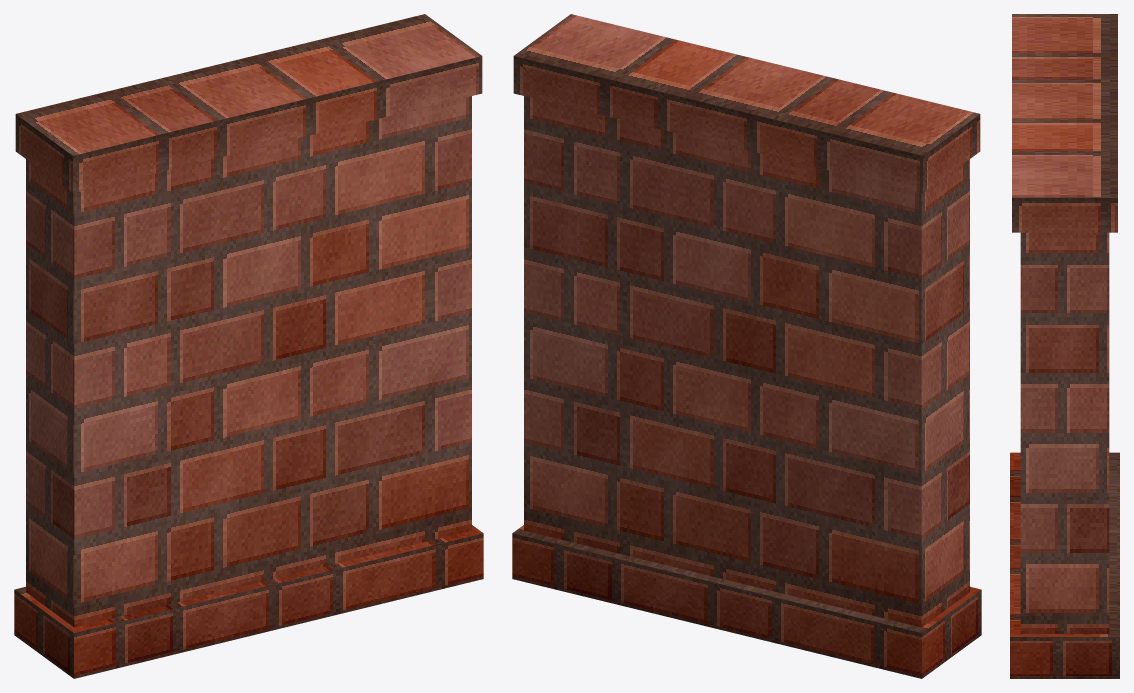
The model's file is parede_de_tijolo.glb.
The picture shows the model from 3 angles, left to right: view 1: azimuth 30°, elevation 25°; view 2: azimuth 150°, elevation 25°; view 3: azimuth 270°, elevation 25°; orthographic projection. The views are drawn at different scales.
Parts seen in each view (by area): view 1: parede_de_tijolo; view 2: parede_de_tijolo; view 3: parede_de_tijolo.
Part boxes in pixels (x1,y1,x2,y2): parede_de_tijolo: [14, 14, 483, 678]; parede_de_tijolo: [512, 14, 981, 678]; parede_de_tijolo: [1010, 14, 1119, 678].
Bounding box in the file's own units: 2.06 × 2.51 × 0.52.
Materials: 1 (1 with a texture image).
